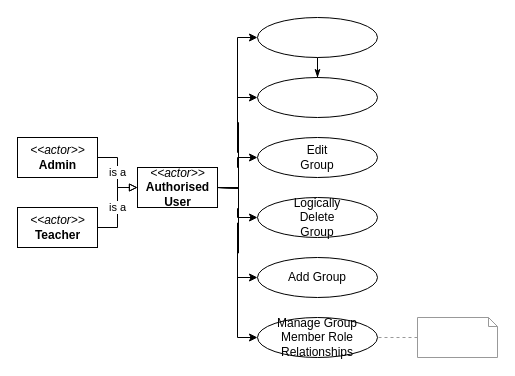
This 515x376 diagram has some shape labels left out. Each missing label, with the centre of its shape:
"See Group Member Role Management" belongs at point (457, 337).
"View Filtered list of Groups" belongs at point (317, 37).
"View Group Details" belongs at point (317, 97).
